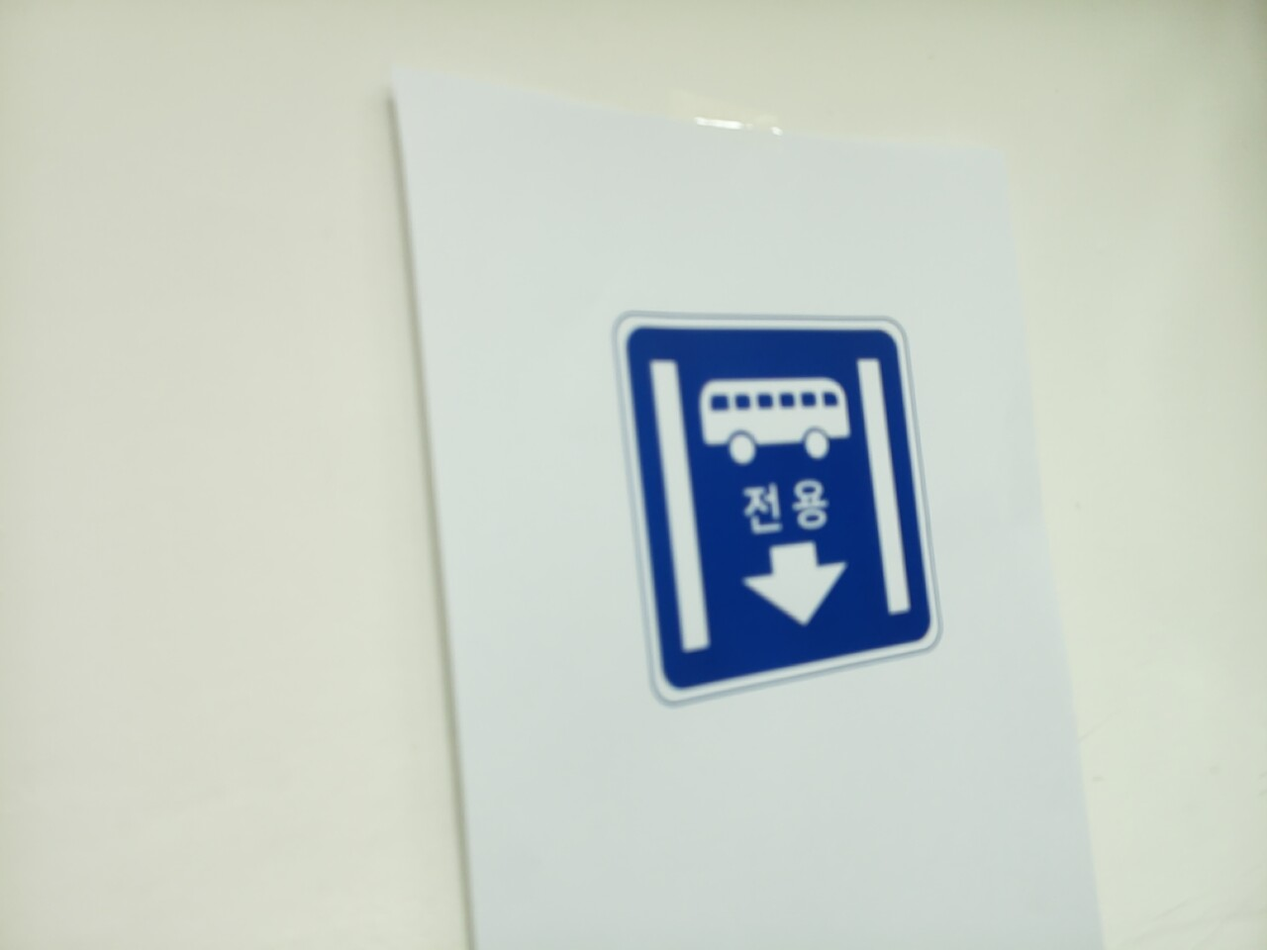bus_only_lane: (617, 316, 940, 700)
